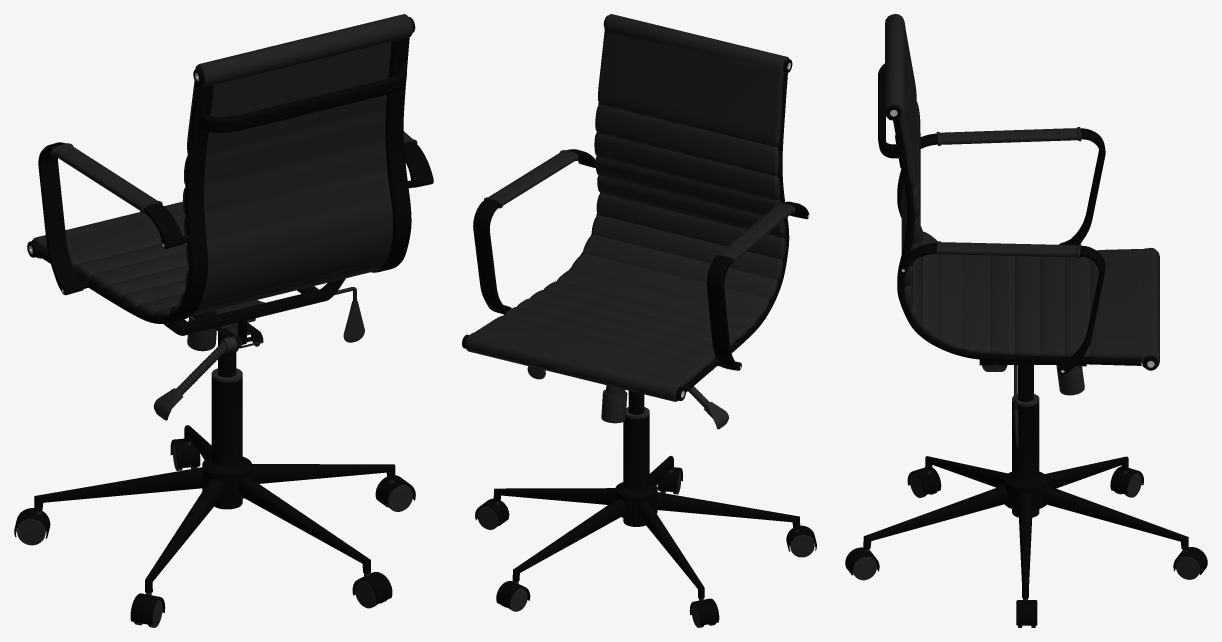
File: 3Dimage3_andes.glb
3 views of the same model, side by side, from view 1: azimuth 30°, elevation 25°; view 2: azimuth 150°, elevation 25°; view 3: azimuth 270°, elevation 25° (orthographic). The views are drawn at different scales.
Visible parts, largest first — view 1: leather_Mat.2_0_28, bottom2_Silver - High Reflection_0_8, metalicpart_Silver - High Reflection_0_25, armrest_left_1_Silver - High Reflection_1_18, bottom3_Mat.1_0_13, bottom_Silver - High Reflection_0_6, bottom2_Mat.1_0_10, armrest_left_1_Mat_0_17, armrest_right_1_Silver - High Reflection_1_22, bottom3_Mat.3_0_14; view 2: leather_Mat.2_0_28, bottom2_Silver - High Reflection_0_8, armrest_left_1_Silver - High Reflection_1_18, armrest_right_1_Silver - High Reflection_1_22, metalicpart_Silver - High Reflection_0_25, bottom2_Mat.1_0_10, armrest_right_1_Mat.1_0_21, bottom3_Mat.1_0_13, armrest_left_1_Mat_0_17; view 3: leather_Mat.2_0_28, bottom2_Silver - High Reflection_0_8, metalicpart_Silver - High Reflection_0_25, armrest_left_1_Mat_0_17, armrest_right_1_Mat.1_0_21, bottom2_Mat.1_0_10, armrest_right_1_Silver - High Reflection_1_22, armrest_left_1_Silver - High Reflection_1_18, bottom3_Mat.1_0_13.
Boxes of the visible parts, x1,y1,x2,y2 form: leather_Mat.2_0_28: (32, 14, 412, 315); bottom2_Silver - High Reflection_0_8: (14, 331, 415, 624); metalicpart_Silver - High Reflection_0_25: (27, 17, 415, 323); armrest_left_1_Silver - High Reflection_1_18: (38, 142, 192, 295); bottom3_Mat.1_0_13: (153, 301, 364, 420); bottom_Silver - High Reflection_0_6: (164, 278, 345, 335); bottom2_Mat.1_0_10: (17, 368, 412, 627); armrest_left_1_Mat_0_17: (51, 143, 162, 213); armrest_right_1_Silver - High Reflection_1_22: (404, 141, 433, 188); bottom3_Mat.3_0_14: (190, 287, 356, 351); leather_Mat.2_0_28: (465, 14, 788, 401); bottom2_Silver - High Reflection_0_8: (475, 390, 816, 625); armrest_left_1_Silver - High Reflection_1_18: (706, 201, 809, 370); armrest_right_1_Silver - High Reflection_1_22: (473, 149, 595, 314); metalicpart_Silver - High Reflection_0_25: (462, 15, 792, 400); bottom2_Mat.1_0_10: (477, 407, 814, 627); armrest_right_1_Mat.1_0_21: (484, 150, 578, 208); bottom3_Mat.1_0_13: (527, 366, 728, 429); armrest_left_1_Mat_0_17: (715, 203, 795, 264); leather_Mat.2_0_28: (885, 14, 1159, 367); bottom2_Silver - High Reflection_0_8: (845, 365, 1207, 625); metalicpart_Silver - High Reflection_0_25: (878, 63, 1158, 370); armrest_left_1_Mat_0_17: (936, 127, 1081, 145); armrest_right_1_Mat.1_0_21: (936, 241, 1081, 258); bottom2_Mat.1_0_10: (852, 394, 1200, 627); armrest_right_1_Silver - High Reflection_1_22: (900, 243, 1105, 374); armrest_left_1_Silver - High Reflection_1_18: (920, 128, 1105, 245); bottom3_Mat.1_0_13: (982, 365, 1084, 447).
Size of the model in its own units: 0.8834 by 1.4 by 0.9276.
Materials: 7 (6 with a texture image).
